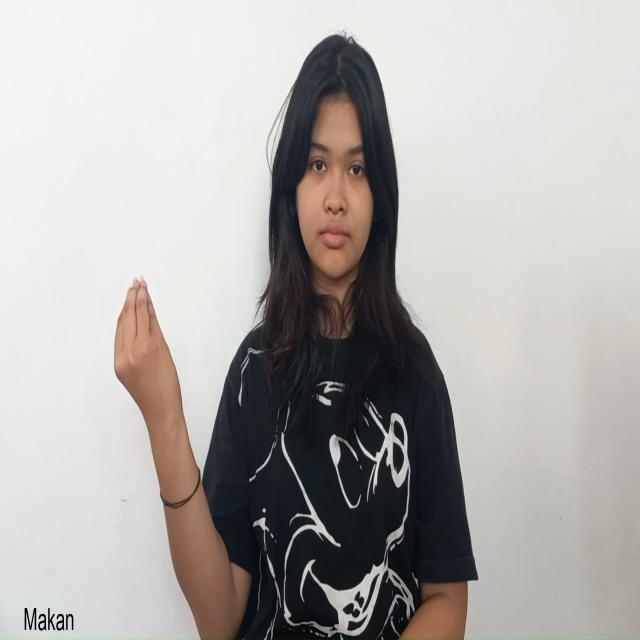Makan -BISINDO-: (113, 273, 185, 443)
